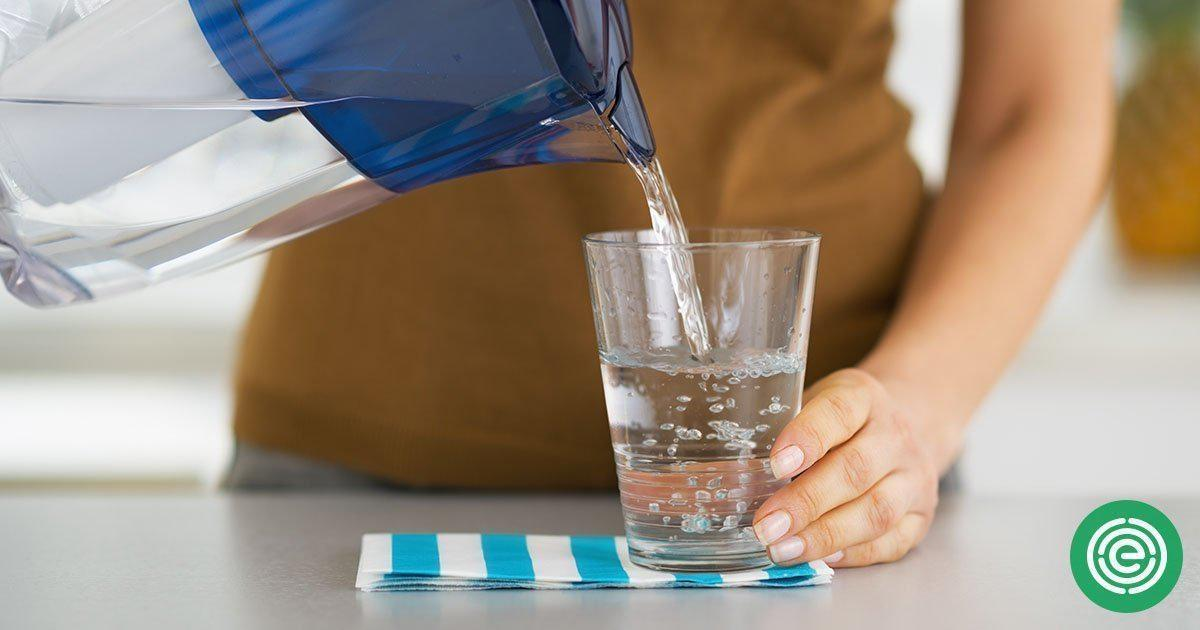glass-normal: (581, 223, 826, 578)
